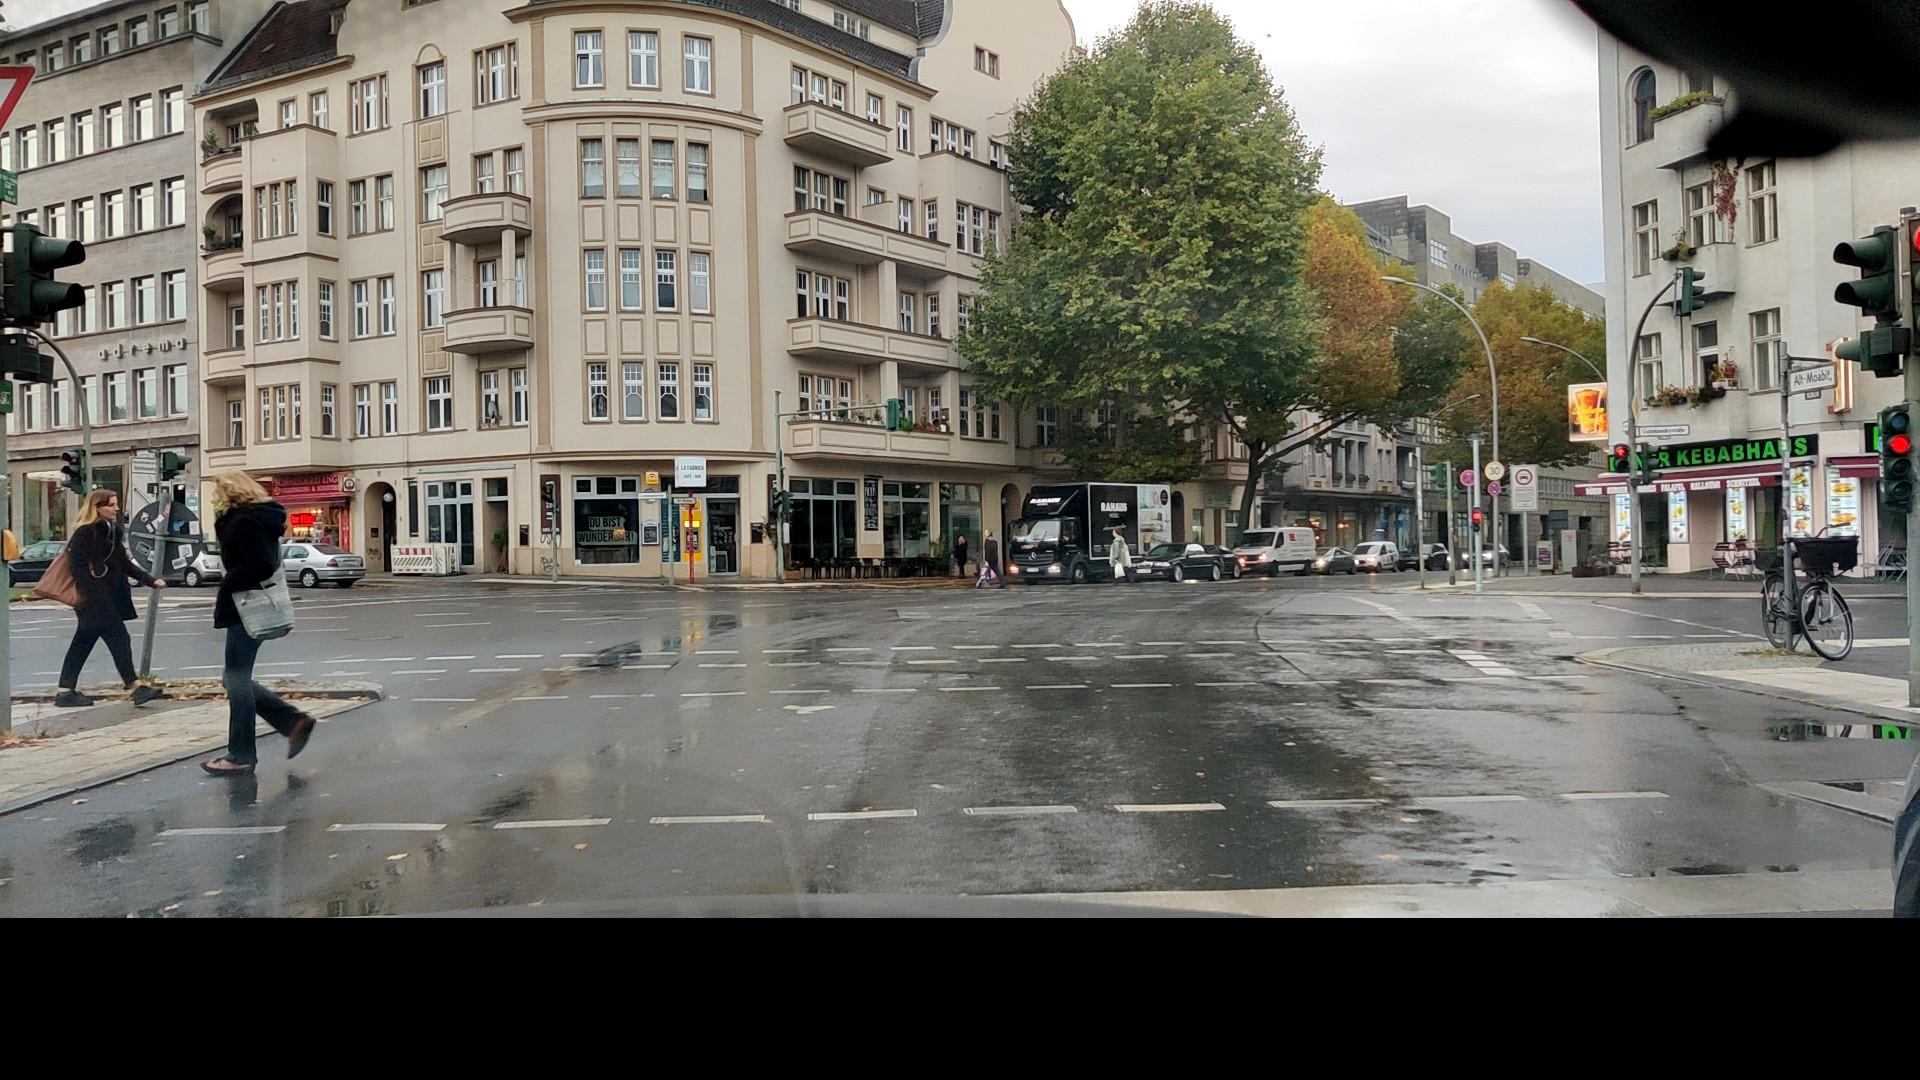Human face: (212, 474, 240, 509), (92, 491, 120, 522), (1111, 528, 1119, 538), (982, 528, 990, 537), (957, 535, 965, 544)
